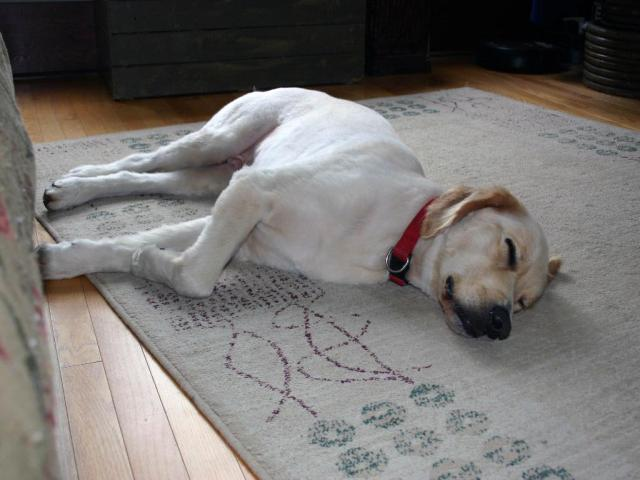Dog: (33, 87, 564, 343)
